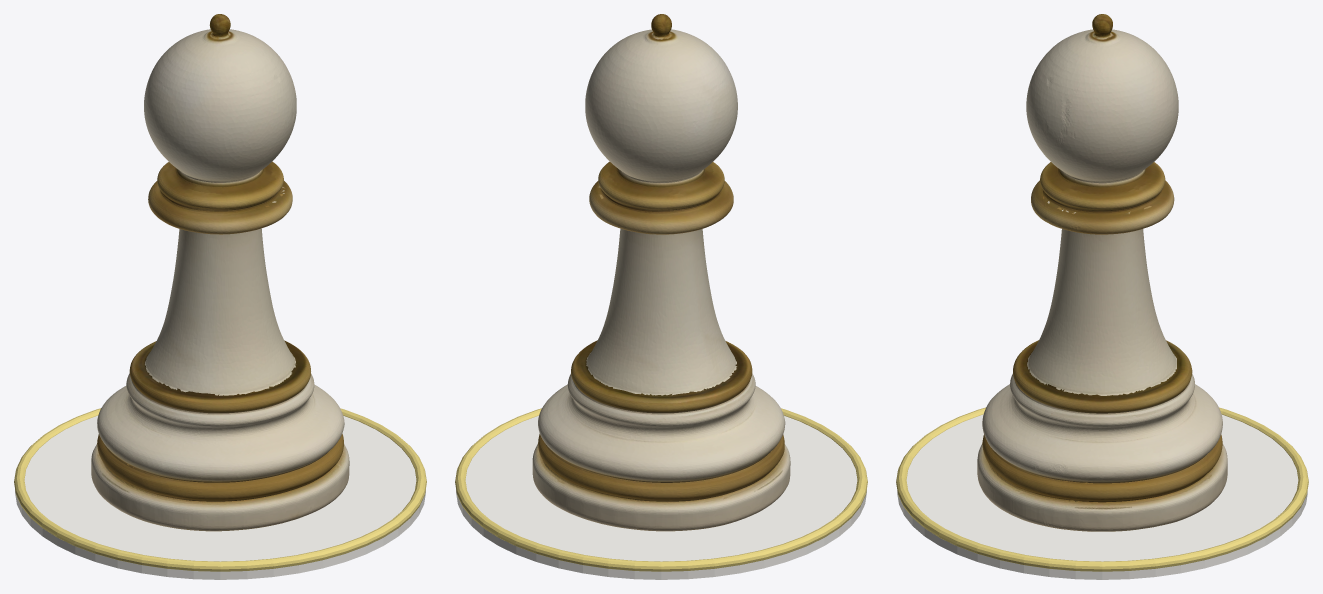
Rendered from pawn-classic-pedone.glb.
The picture shows the model from 3 angles, left to right: view 1: azimuth 30°, elevation 25°; view 2: azimuth 150°, elevation 25°; view 3: azimuth 270°, elevation 25°; orthographic projection.
Parts seen in each view (by area): view 1: tmp330z47my.ply, FactionPedestal, FactionTrimRing; view 2: tmp330z47my.ply, FactionPedestal, FactionTrimRing; view 3: tmp330z47my.ply, FactionPedestal, FactionTrimRing.
Boxes of the visible parts, <box> form: tmp330z47my.ply: <box>91,14,349,531</box>; FactionPedestal: <box>15,415,425,579</box>; FactionTrimRing: <box>14,408,426,571</box>; tmp330z47my.ply: <box>532,14,790,531</box>; FactionPedestal: <box>456,415,866,579</box>; FactionTrimRing: <box>455,408,867,571</box>; tmp330z47my.ply: <box>977,14,1227,531</box>; FactionPedestal: <box>897,414,1307,579</box>; FactionTrimRing: <box>896,407,1308,571</box>.
Size of the model in its own units: 0.744 by 0.95 by 0.744.
3 materials, 1 textured.
